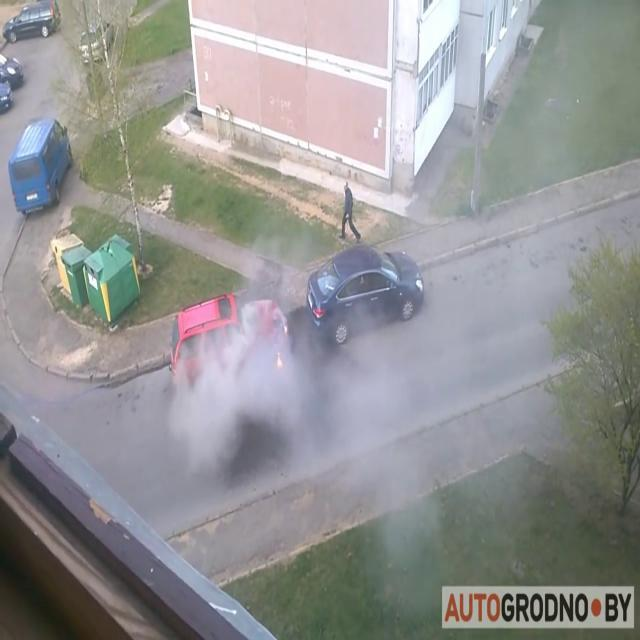Smoke: (158, 237, 592, 546)
